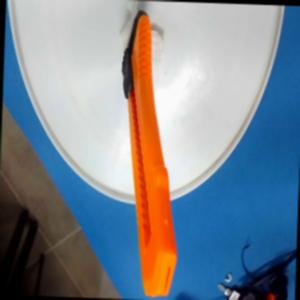estilete: (112, 8, 186, 298)
